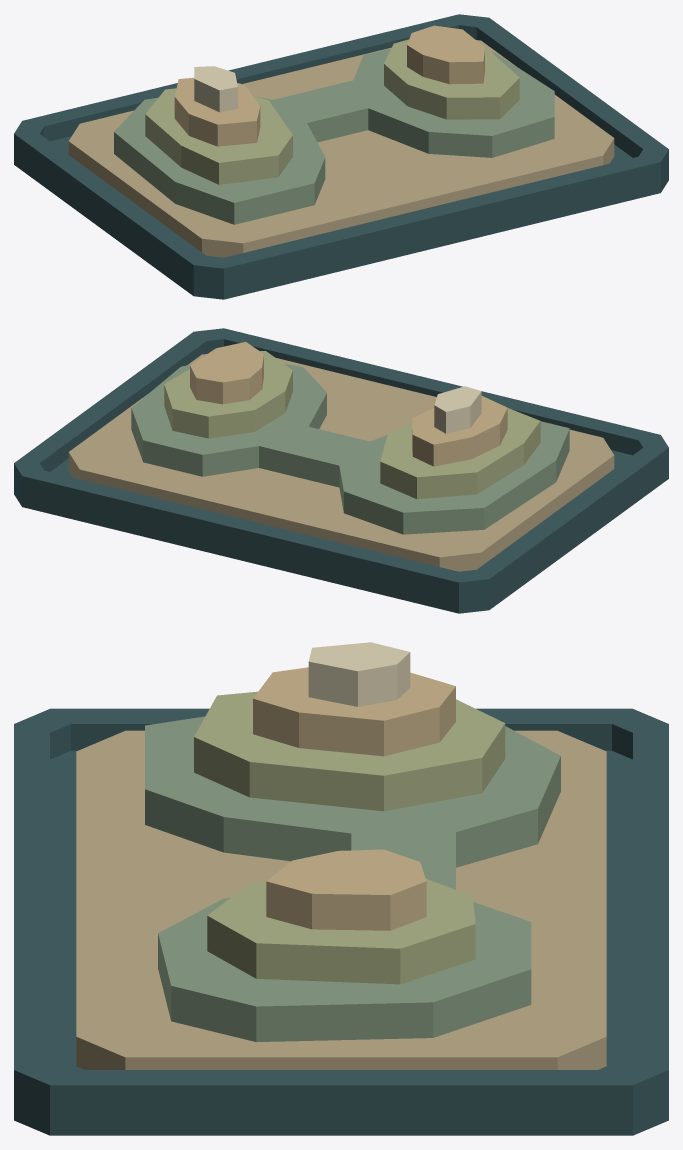
The picture shows the model from 3 angles, top to bottom: view 1: azimuth 30°, elevation 25°; view 2: azimuth 150°, elevation 25°; view 3: azimuth 270°, elevation 25°; orthographic projection. The views are drawn at different scales.
Visible parts, largest first — view 1: OneContinuousTwinPeakTerracedTerrain, CompleteClosedBottomShallowFrame; view 2: OneContinuousTwinPeakTerracedTerrain, CompleteClosedBottomShallowFrame; view 3: OneContinuousTwinPeakTerracedTerrain, CompleteClosedBottomShallowFrame.
Boxes of the visible parts, <box> form: OneContinuousTwinPeakTerracedTerrain: <box>68,25,614,257</box>; CompleteClosedBottomShallowFrame: <box>14,14,668,299</box>; OneContinuousTwinPeakTerracedTerrain: <box>68,342,614,571</box>; CompleteClosedBottomShallowFrame: <box>14,328,668,613</box>; OneContinuousTwinPeakTerracedTerrain: <box>76,642,606,1069</box>; CompleteClosedBottomShallowFrame: <box>14,708,668,1135</box>.
Bounding box in the file's own units: 1.36 × 0.33 × 1.
